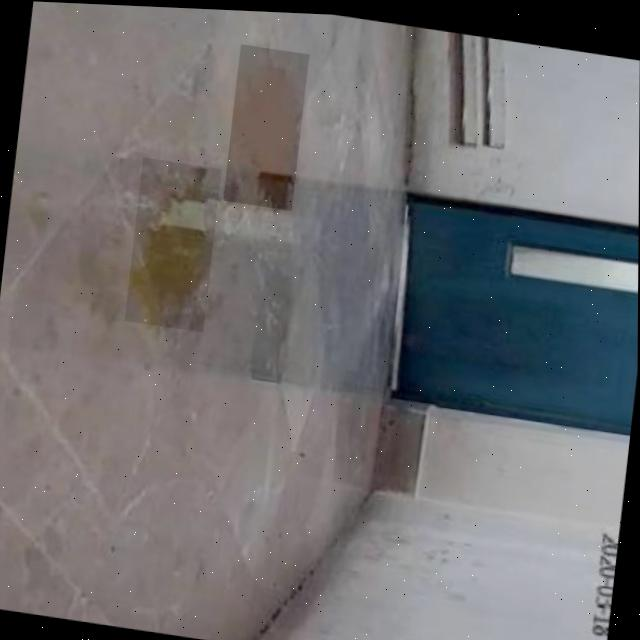spillage: (128, 164, 207, 323), (232, 46, 296, 204)
